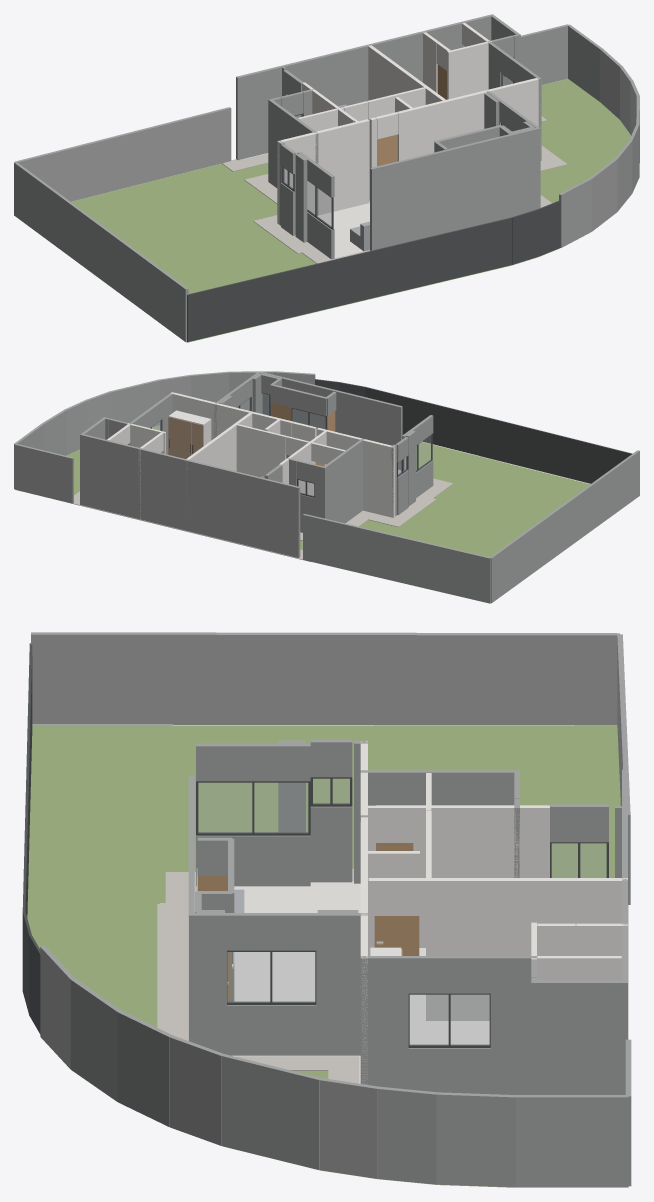
Rendered from casa.glb.
3 renders of one model, top to bottom at view 1: azimuth 30°, elevation 25°; view 2: azimuth 150°, elevation 25°; view 3: azimuth 270°, elevation 25°, orthographic. The views are drawn at different scales.
Parts seen in each view (by area): view 1: fachada, grama, parede, esquadria, concreto, piso, vidro, door6_swing__porta, tecido; view 2: fachada, grama, parede, esquadria, concreto, vidro, madeira, armario; view 3: fachada, grama, parede, vidro, piso, concreto, esquadria, door4_swing__porta.
Boxes of the visible parts, x1,y1,x2,y2 form: fachada: (14,14,639,341); grama: (71,79,630,342); parede: (277,23,541,224); esquadria: (187,57,560,342); concreto: (222,116,567,263); piso: (239,153,542,258); vidro: (283,74,512,226); door6_swing__porta: (377,134,397,166); tecido: (338,104,369,251); fachada: (14,371,639,603); grama: (66,426,590,603); parede: (107,392,395,519); esquadria: (109,379,632,497); concreto: (72,478,453,561); vidro: (152,393,431,495); madeira: (168,417,203,458); armario: (168,410,211,445); fachada: (31,632,631,1187); grama: (27,725,628,1187); parede: (360,741,627,1084); vidro: (198,779,606,1044); piso: (188,881,489,1083); concreto: (157,868,628,1083); esquadria: (22,643,608,1047); door4_swing__porta: (374,916,419,955).
Bounding box in the file's own units: 19.94 × 2.83 × 11.02.
